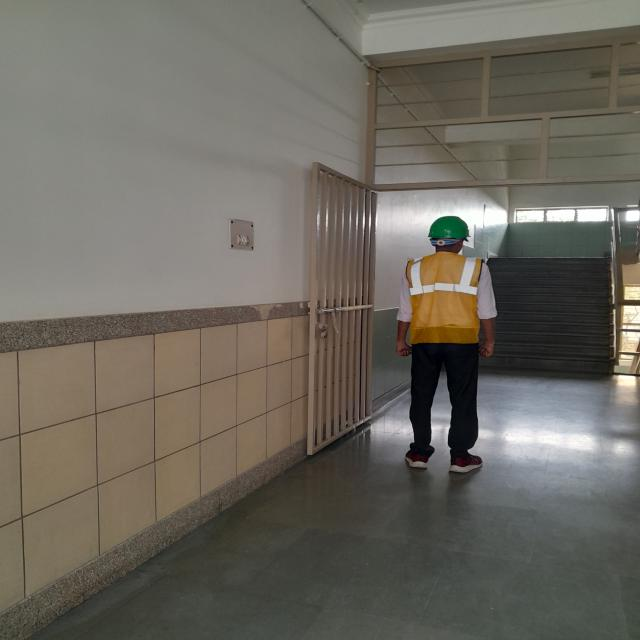safe: (396, 216, 494, 473)
